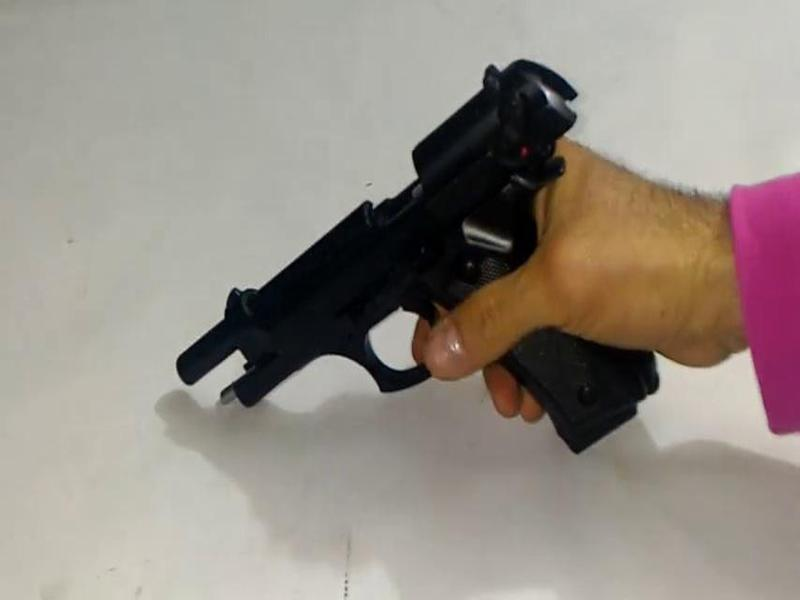Pistola: (148, 43, 689, 461)
